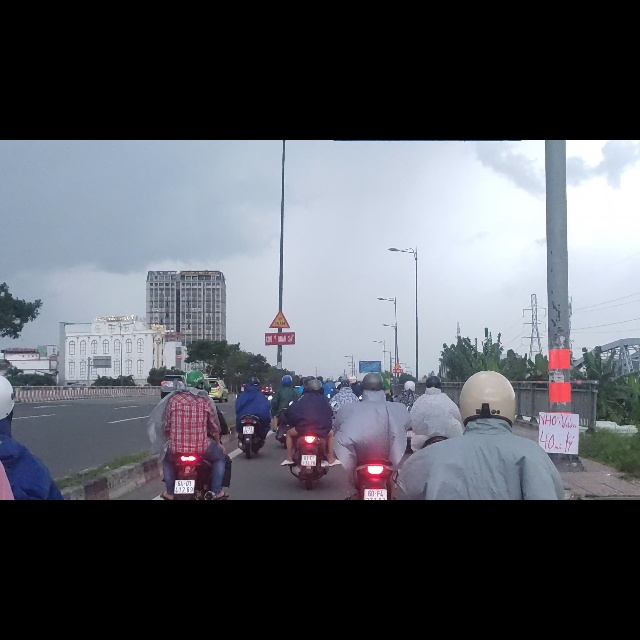bien_nguy_hiem: (269, 302, 291, 335)
